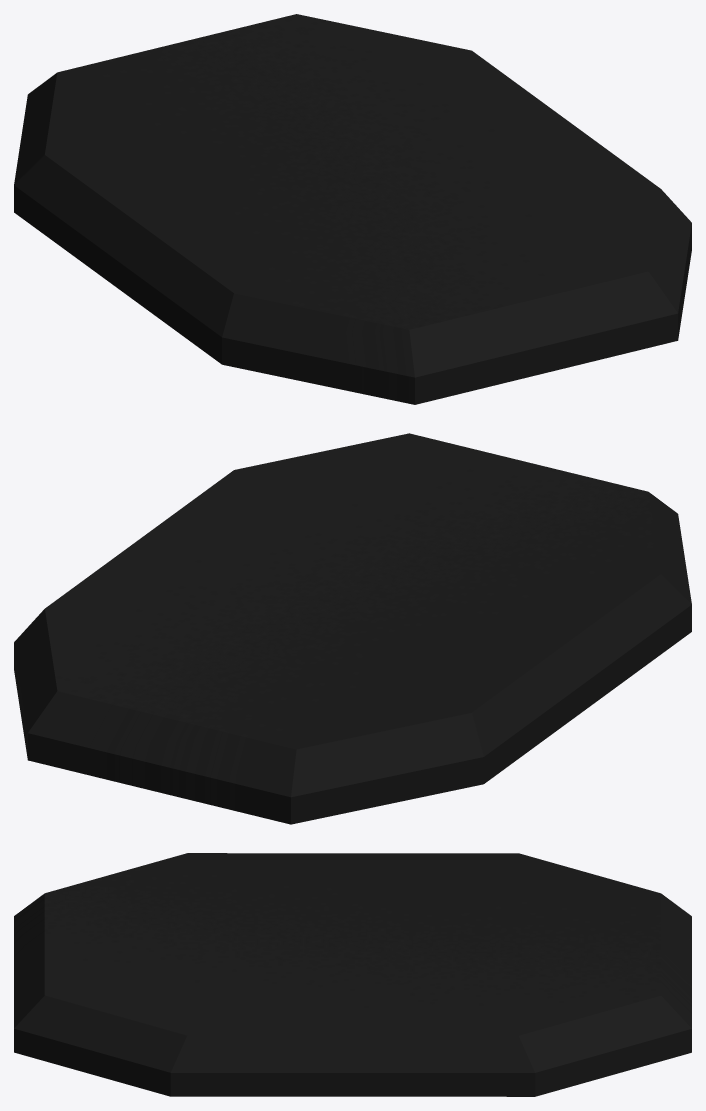
The model's file is YK_BS_Cannon_Base.obj.
The picture shows the model from 3 angles, top to bottom: view 1: azimuth 30°, elevation 25°; view 2: azimuth 150°, elevation 25°; view 3: azimuth 270°, elevation 25°; orthographic projection. The views are drawn at different scales.
Parts seen in each view (by area): view 1: Cube_Cube.000_Cube_Cube.007; view 2: Cube_Cube.000_Cube_Cube.007; view 3: Cube_Cube.000_Cube_Cube.007.
Part boxes in pixels (x1=…): Cube_Cube.000_Cube_Cube.007: x1=14, y1=14, x2=691, y2=404; Cube_Cube.000_Cube_Cube.007: x1=14, y1=433, x2=691, y2=824; Cube_Cube.000_Cube_Cube.007: x1=14, y1=853, x2=691, y2=1096.
Size of the model in its own units: 1.98 by 0.3176 by 2.83.
